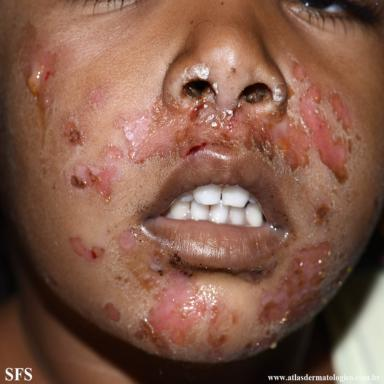Impetigo: (112, 57, 365, 230), (67, 222, 245, 363), (239, 229, 355, 360), (67, 143, 126, 209), (179, 54, 219, 95), (59, 114, 90, 152), (241, 263, 277, 282), (84, 87, 108, 109)
